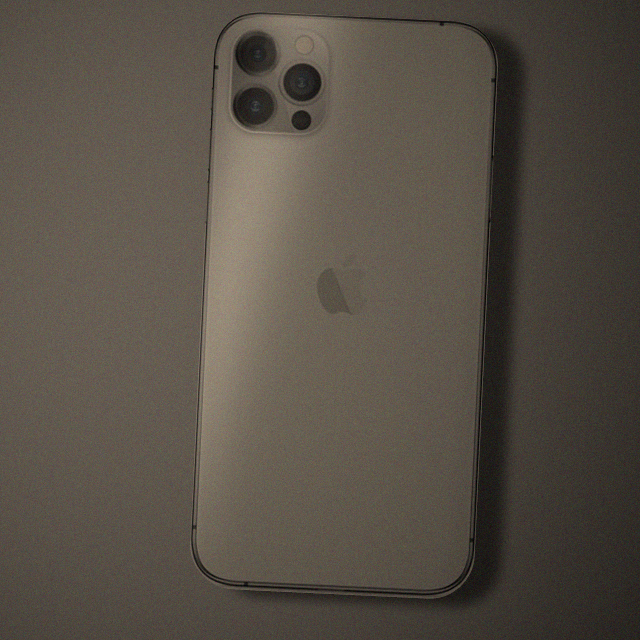iphone_12pro_silver: (180, 7, 515, 611), (216, 16, 340, 145)
